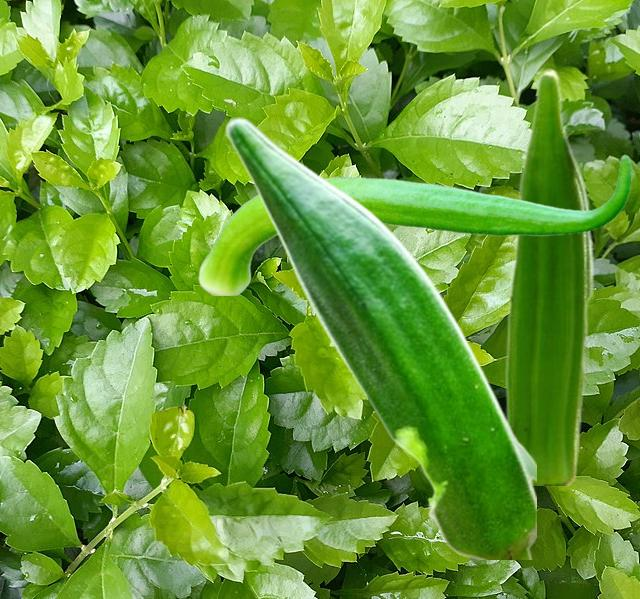okra: (224, 117, 535, 558), (198, 154, 631, 294), (505, 67, 594, 484)
